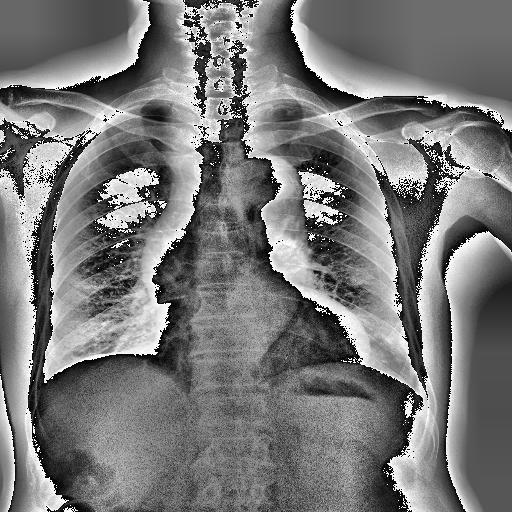0- Aortic enlargement: (222, 154, 304, 216), (236, 159, 304, 219), (240, 159, 302, 205)
11- Pleural thickening: (252, 98, 326, 120), (124, 98, 182, 110)
3- Cardiomegaly: (151, 318, 368, 378), (153, 314, 369, 374), (156, 311, 370, 368)
